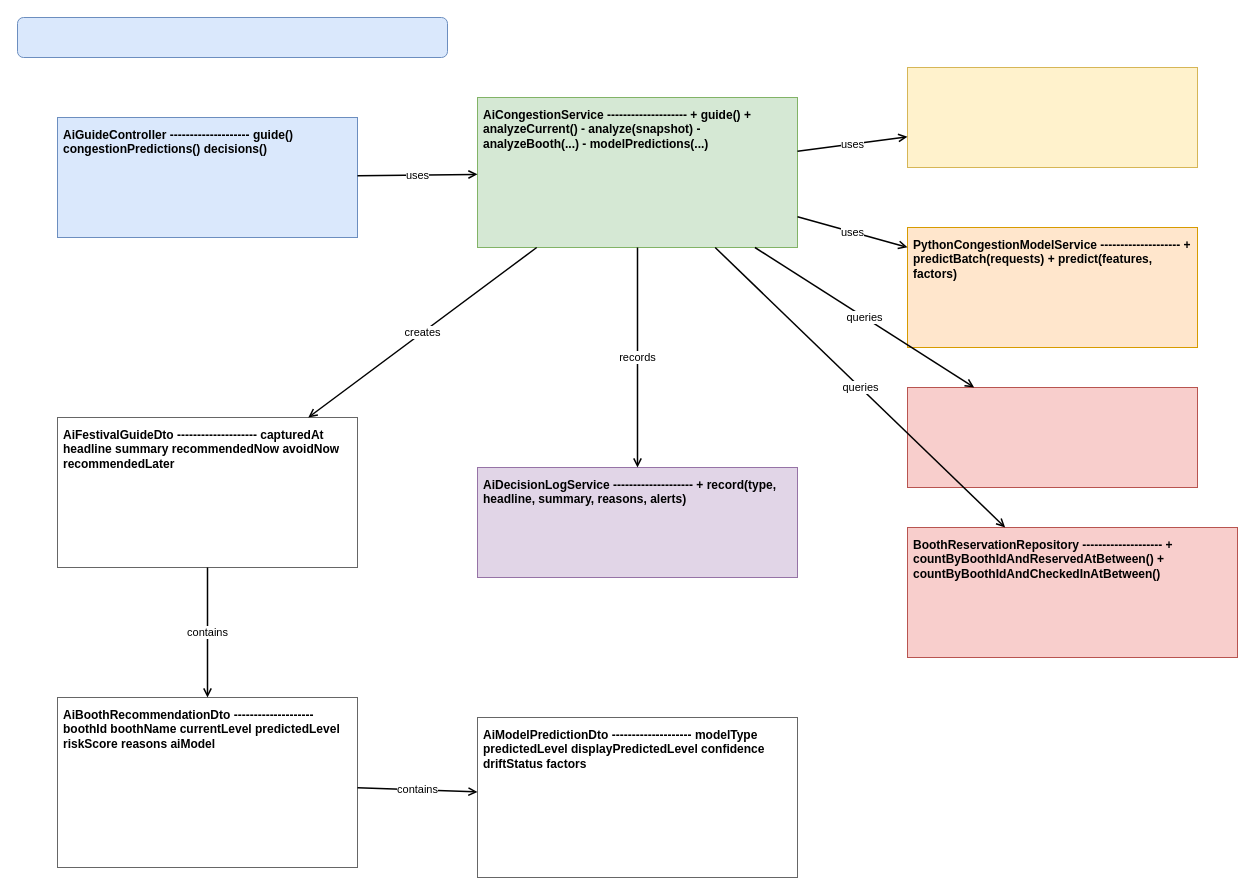
Some shapes in this 1255 by 895 pixel diagram are drawn without their labels. The centre of each missing label's shape, as x and y in pixels:
"AI 혼잡도 예측 및 부스 추천 - 클래스" belongs at (x=232, y=37).
"FestivalSnapshotService -------------------- + current() : FestivalSnapshot" belongs at (x=1052, y=117).
"GpsLogRepository -------------------- + findByCreatedAtAfter(from)" belongs at (x=1052, y=437).
